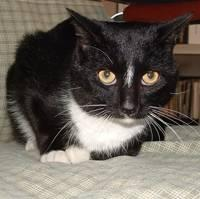cat: (7, 8, 196, 162)
